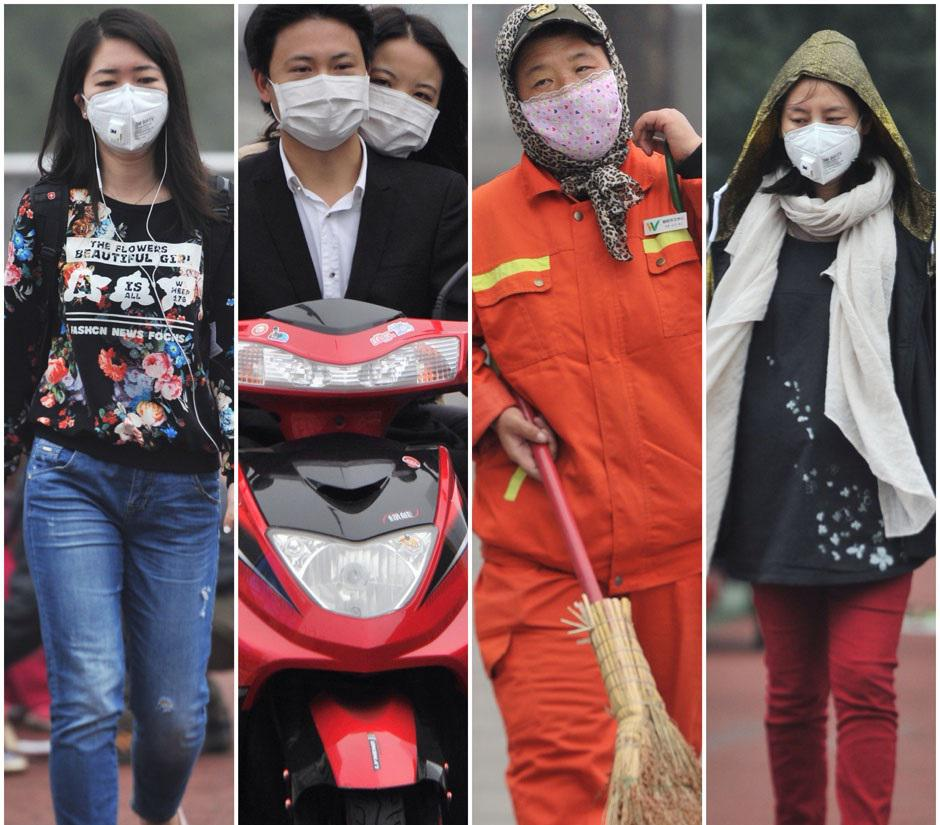OK: (520, 40, 636, 156), (75, 63, 171, 159), (275, 51, 368, 144), (361, 66, 446, 151), (781, 98, 864, 181)
